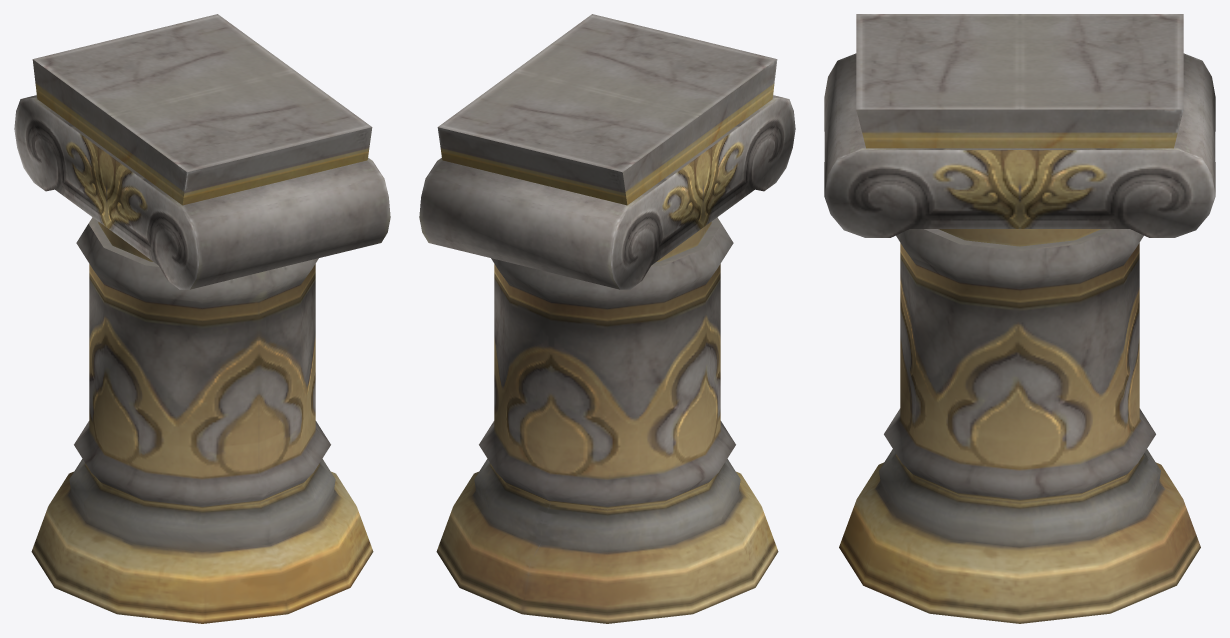
File: Main_Pillars_05.FBX
The picture shows the model from 3 angles, left to right: view 1: azimuth 30°, elevation 25°; view 2: azimuth 150°, elevation 25°; view 3: azimuth 270°, elevation 25°; orthographic projection. The views are drawn at different scales.
Parts seen in each view (by area): view 1: Main_Pillars_05; view 2: Main_Pillars_05; view 3: Main_Pillars_05.
Part boxes in pixels (left/top/right/bottom): Main_Pillars_05: left=14, top=14, right=390, bottom=623; Main_Pillars_05: left=419, top=14, right=795, bottom=623; Main_Pillars_05: left=824, top=14, right=1215, bottom=623.
Bounding box in the file's own units: 1.71 × 2.53 × 1.85.
